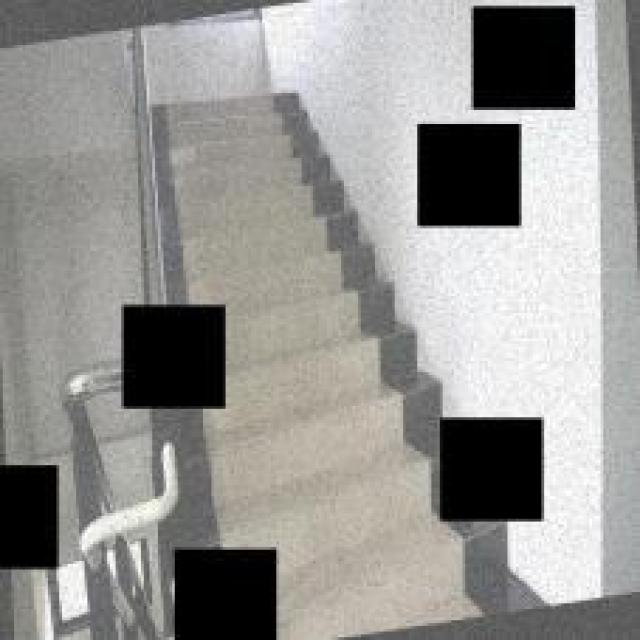upstair: (159, 105, 331, 297)
